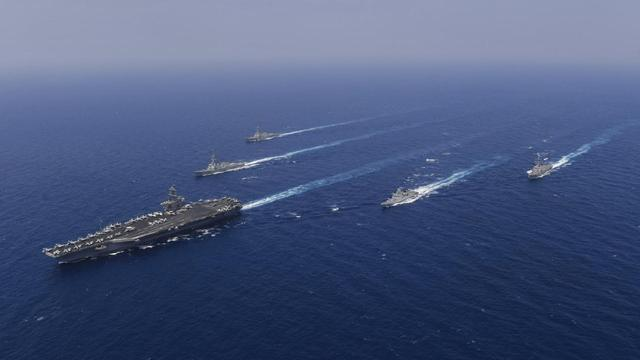warship: (40, 184, 242, 265), (191, 149, 250, 180), (377, 184, 425, 209), (524, 151, 556, 181), (244, 125, 283, 147)
